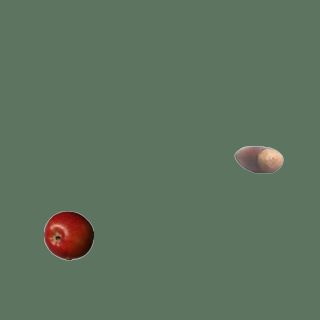Apple Braeburn: (43, 210, 93, 260)
Hazelnut: (233, 134, 283, 184)
